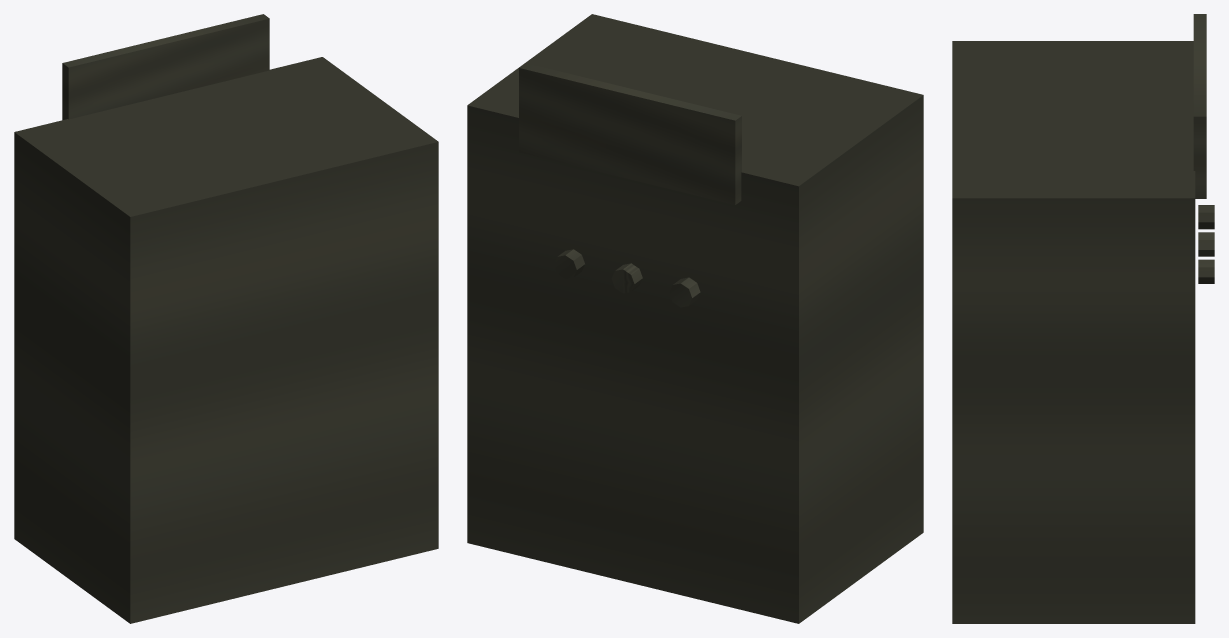
Rendered from env_abandoned_cabin_a.glb.
The picture shows the model from 3 angles, left to right: view 1: azimuth 30°, elevation 25°; view 2: azimuth 150°, elevation 25°; view 3: azimuth 270°, elevation 25°; orthographic projection. The views are drawn at different scales.
Visible parts, largest first — view 1: env_abandoned_cabin_a; view 2: env_abandoned_cabin_a; view 3: env_abandoned_cabin_a.
Boxes of the visible parts, <box> form: env_abandoned_cabin_a: <box>14,14,438,623</box>; env_abandoned_cabin_a: <box>467,14,923,623</box>; env_abandoned_cabin_a: <box>952,14,1214,623</box>.
Size of the model in its own units: 1.15 by 1.66 by 0.81.
Materials: 1 (1 with a texture image).
